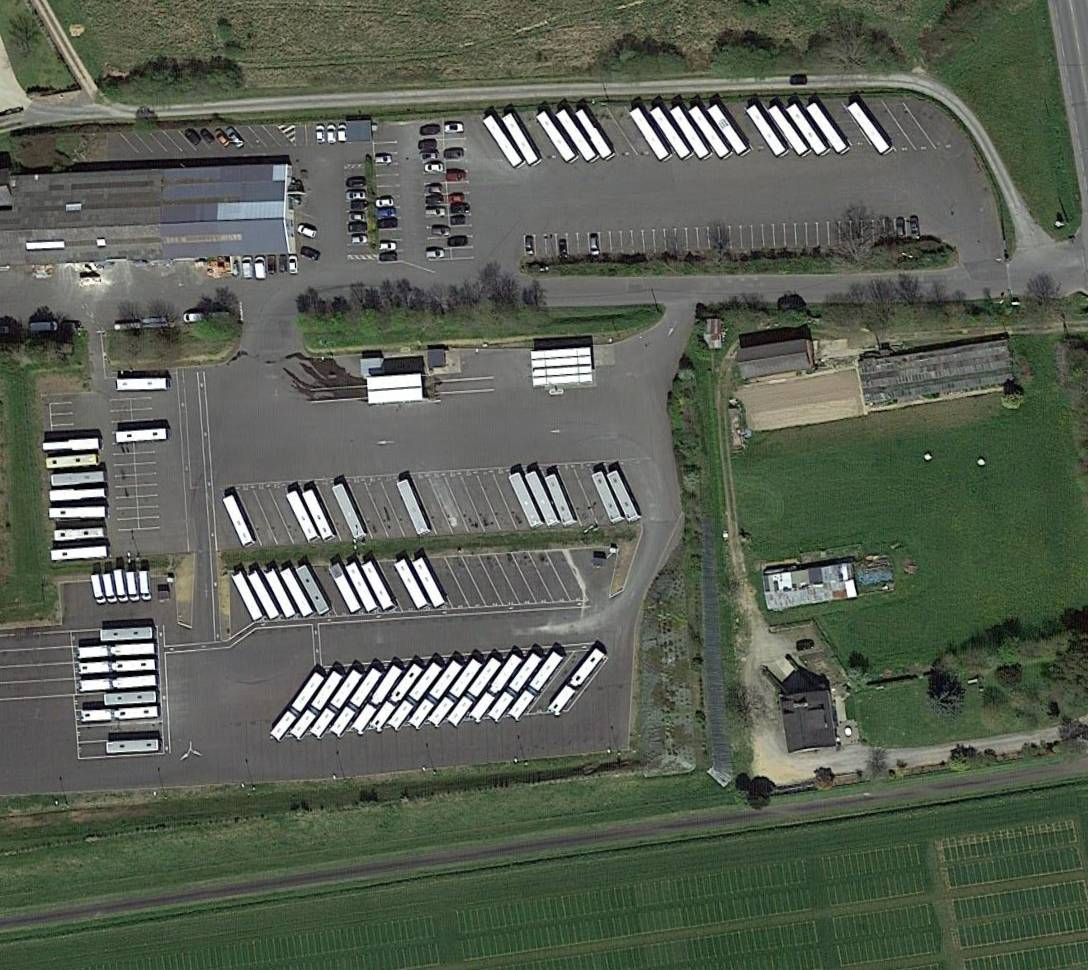large vehicle: (387, 661, 443, 731), (509, 650, 564, 720), (428, 658, 483, 728), (548, 648, 605, 715), (408, 660, 463, 729), (448, 656, 501, 727), (488, 653, 541, 722), (310, 669, 362, 739), (271, 673, 324, 741), (291, 671, 343, 740), (330, 668, 382, 737), (371, 663, 423, 731), (352, 664, 403, 733), (470, 654, 521, 722), (745, 104, 790, 161), (848, 102, 894, 156), (786, 103, 831, 158), (768, 105, 813, 159), (629, 106, 672, 162), (806, 102, 850, 155), (688, 105, 731, 158), (555, 109, 596, 163), (651, 107, 692, 159), (575, 108, 615, 161), (671, 106, 711, 159), (708, 104, 749, 155), (536, 111, 576, 163), (484, 115, 522, 168), (502, 113, 539, 166), (525, 471, 559, 526), (332, 483, 365, 539), (361, 560, 395, 613), (397, 479, 429, 535), (394, 559, 429, 610), (607, 470, 641, 522), (592, 472, 625, 525), (328, 564, 362, 615), (510, 473, 542, 527), (264, 568, 297, 619), (281, 568, 314, 619), (413, 558, 446, 609), (286, 490, 319, 541), (296, 566, 330, 615), (231, 571, 264, 621), (247, 571, 280, 621), (302, 489, 334, 540), (346, 563, 378, 613), (223, 495, 254, 546), (545, 474, 574, 526), (78, 643, 155, 659), (79, 659, 155, 675), (80, 675, 156, 691), (80, 706, 158, 721), (52, 470, 104, 487), (51, 545, 106, 561), (115, 428, 166, 444), (46, 453, 97, 469), (106, 739, 159, 754), (104, 691, 156, 706), (50, 487, 105, 501), (50, 505, 105, 519), (101, 627, 153, 641), (44, 439, 99, 452), (54, 526, 104, 540), (116, 379, 166, 391)
small vehicle: (112, 566, 131, 604), (87, 572, 108, 605), (224, 126, 248, 152), (101, 570, 119, 604), (126, 567, 141, 602), (297, 222, 320, 241), (139, 568, 152, 601), (183, 127, 203, 148), (213, 128, 232, 150), (299, 245, 321, 263), (241, 256, 256, 280), (450, 234, 471, 249), (428, 224, 452, 237), (254, 256, 267, 280), (587, 233, 601, 255), (200, 128, 217, 145), (425, 194, 446, 207), (422, 162, 446, 173), (447, 170, 469, 182), (425, 207, 447, 219), (377, 218, 399, 230), (326, 124, 338, 145), (419, 139, 440, 151), (419, 151, 440, 163), (524, 235, 536, 256), (347, 190, 369, 201), (444, 149, 466, 160), (346, 177, 366, 189), (288, 255, 300, 275), (379, 251, 399, 263), (337, 124, 348, 145), (420, 125, 441, 136), (452, 203, 471, 215), (350, 233, 369, 245), (316, 125, 327, 145), (425, 249, 445, 260), (349, 212, 368, 223), (349, 222, 368, 233), (267, 256, 278, 275), (375, 198, 395, 208), (444, 124, 464, 134), (279, 255, 289, 275), (352, 200, 370, 211), (426, 184, 444, 195), (448, 193, 466, 204), (378, 241, 397, 251), (559, 238, 568, 258), (378, 209, 398, 218), (375, 155, 393, 165), (450, 215, 466, 226)
